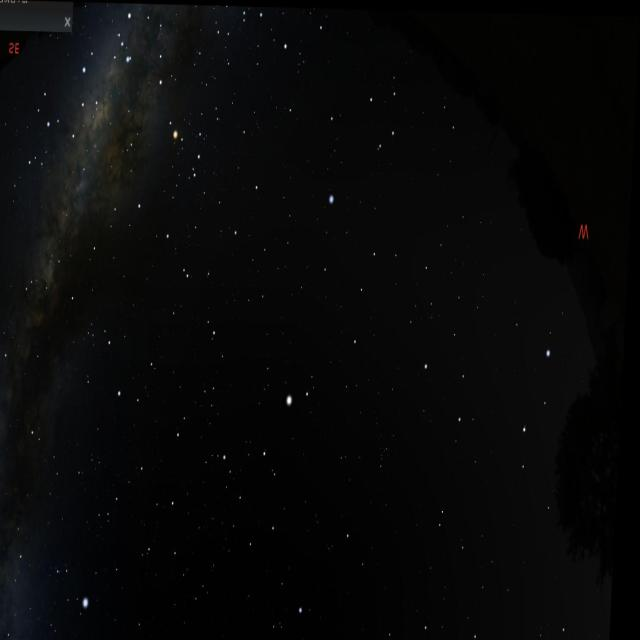aquila: (0, 267, 50, 459)
bootes: (227, 363, 328, 561)
leo: (422, 323, 577, 479)
lyra: (52, 545, 103, 621)
sagittarius: (31, 44, 115, 164)
scorpius: (108, 9, 216, 200)
